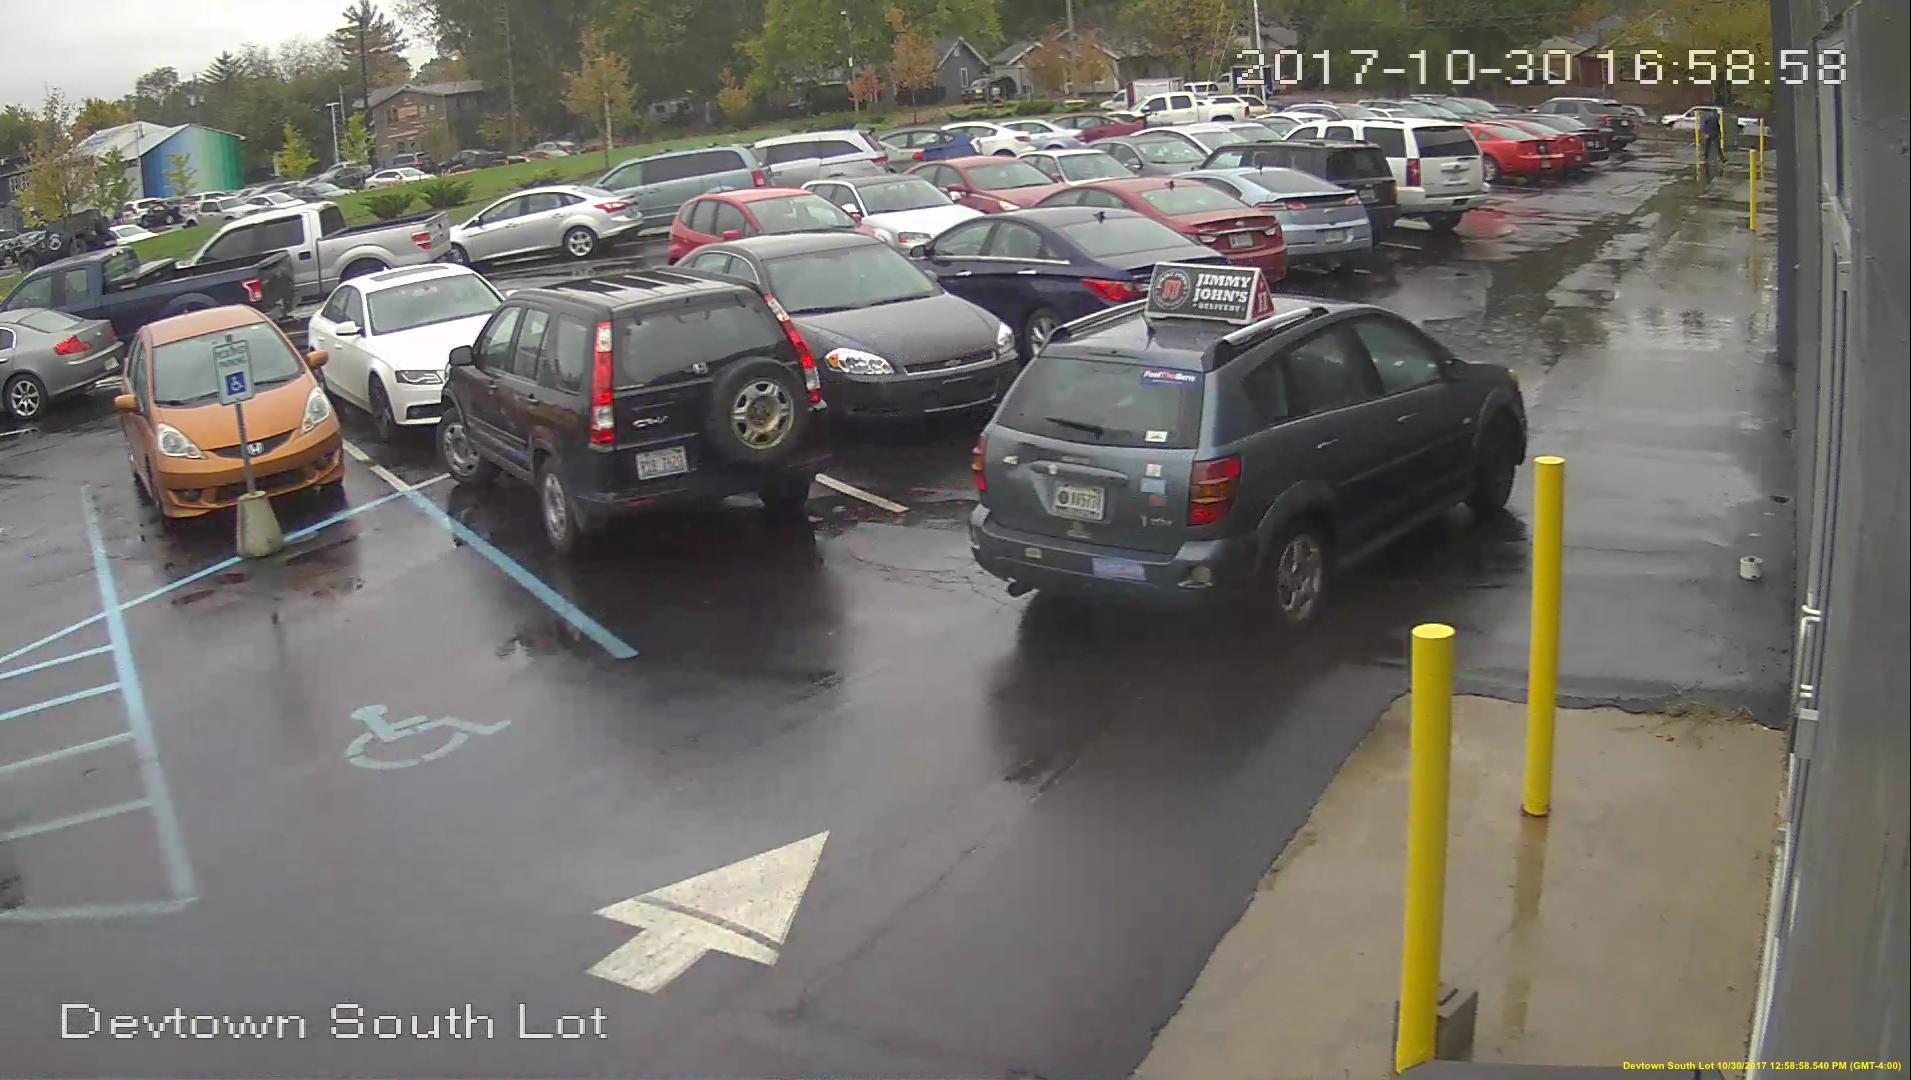jimmy_johns: (1142, 261, 1277, 332)
